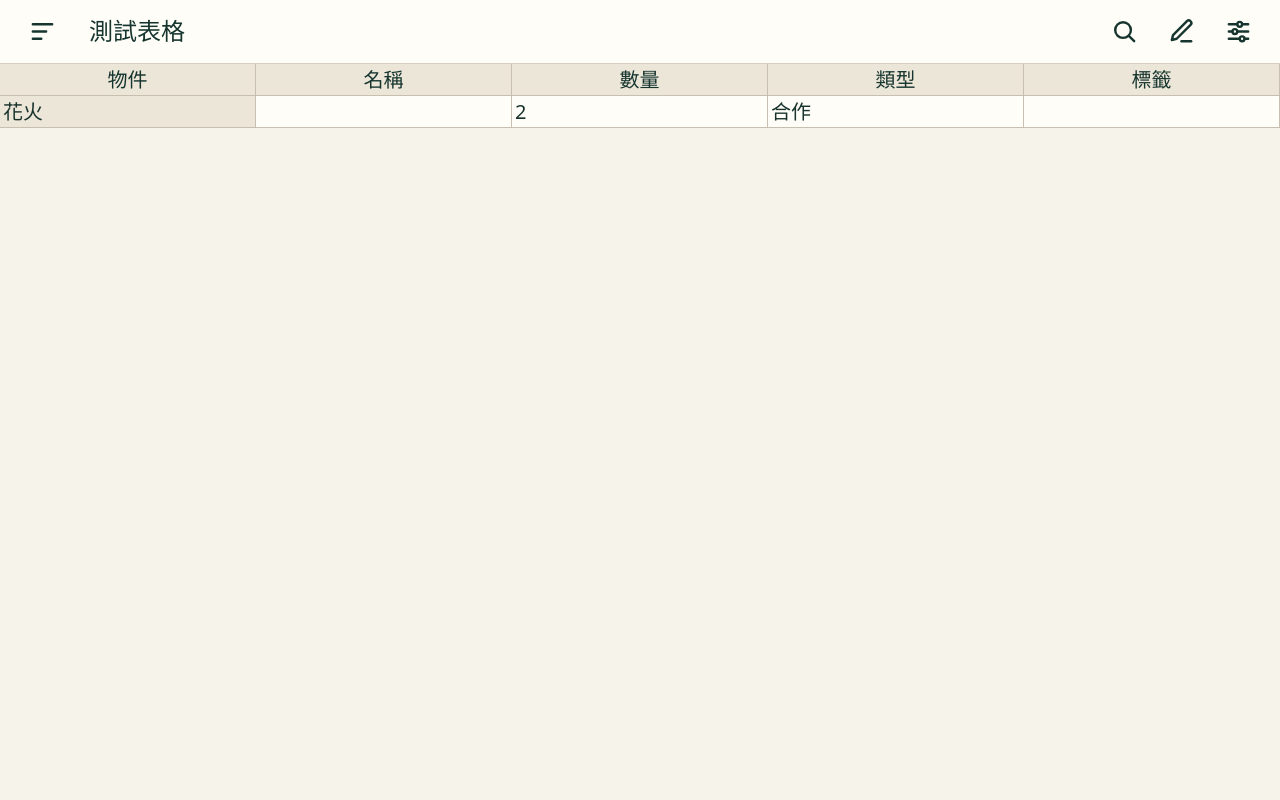
it: WorkspacePage.fields › suggests current distinct values when changing a property to a fixed list
Click the cell named "花火，名稱：空白". click: (384, 112)
box: [256, 96, 512, 128]
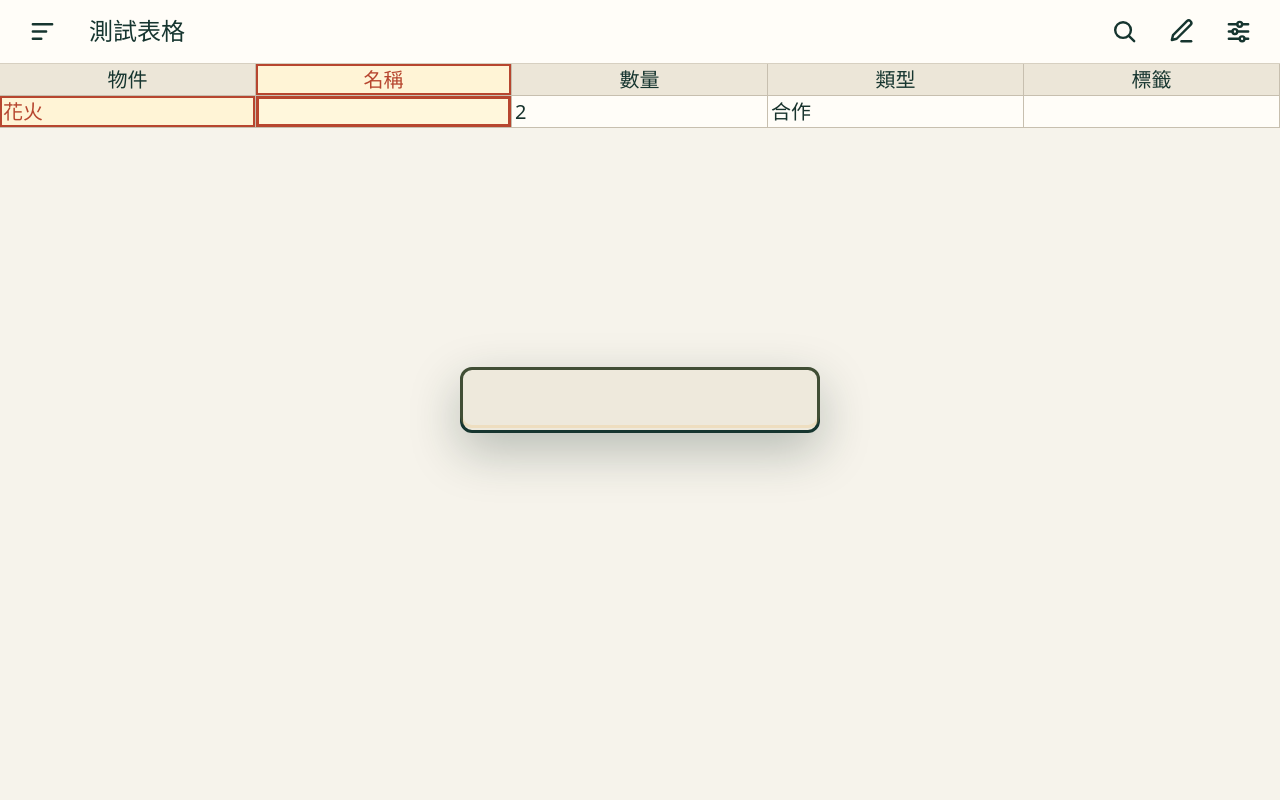
Type "合作" into the text box named "名稱輸入". click: (640, 398)
box: [463, 370, 817, 425]
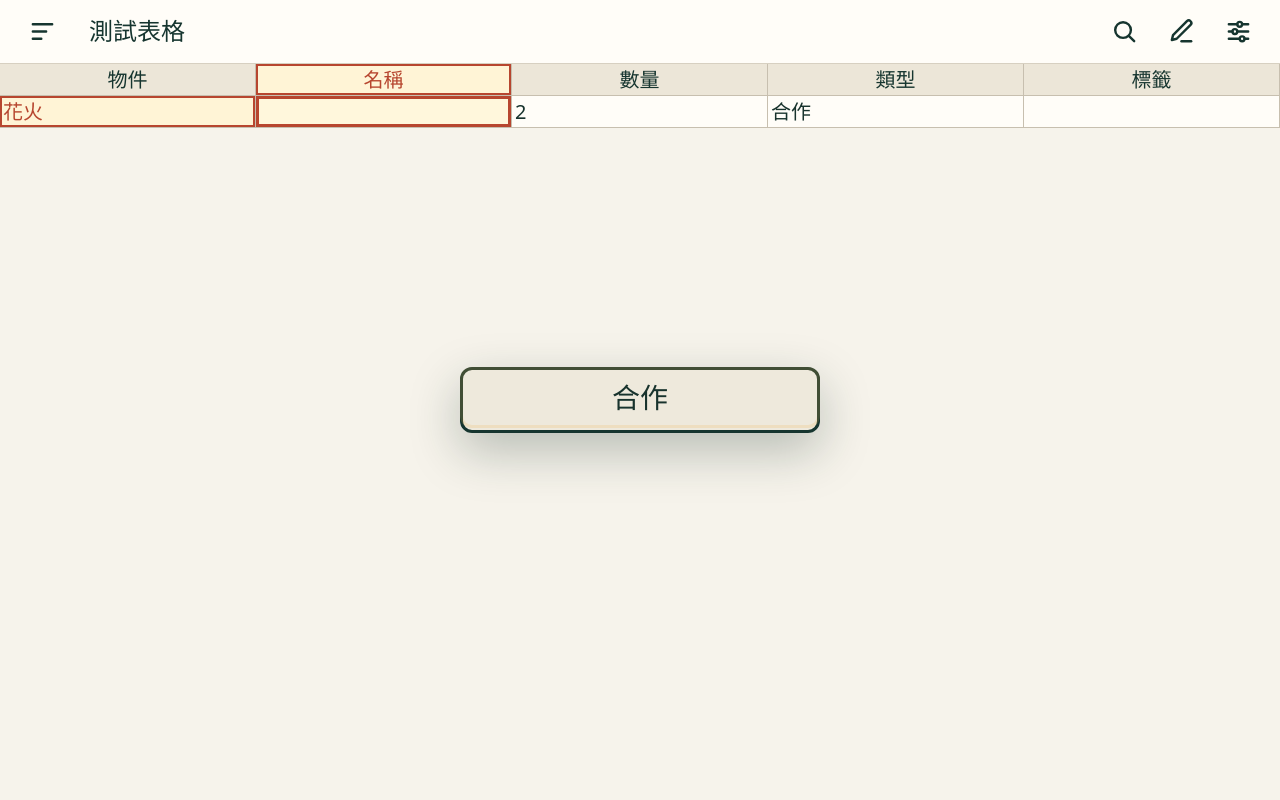
Click the element with class "workspace-value-dialog-overlay". click: (640, 400)
box: [460, 367, 820, 433]
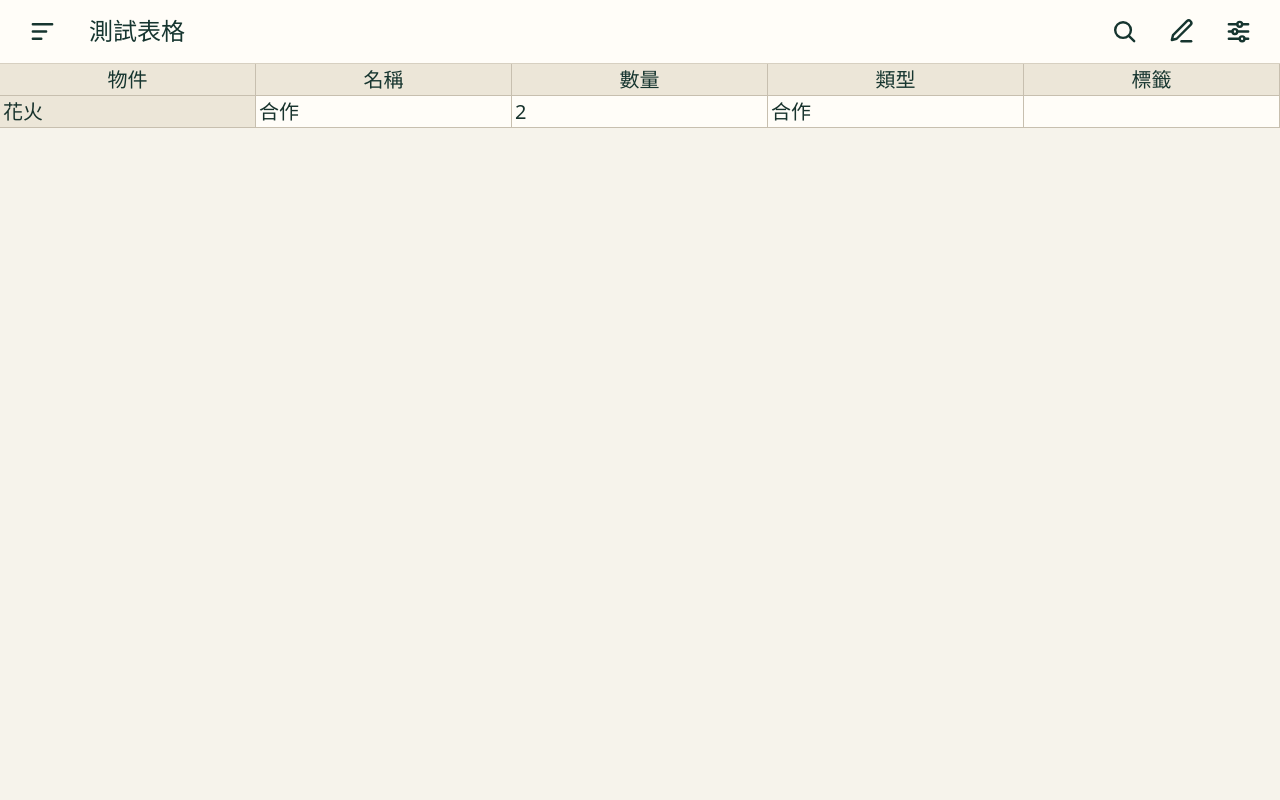
Click the column heading "名稱". click: (384, 80)
box: [256, 64, 512, 96]
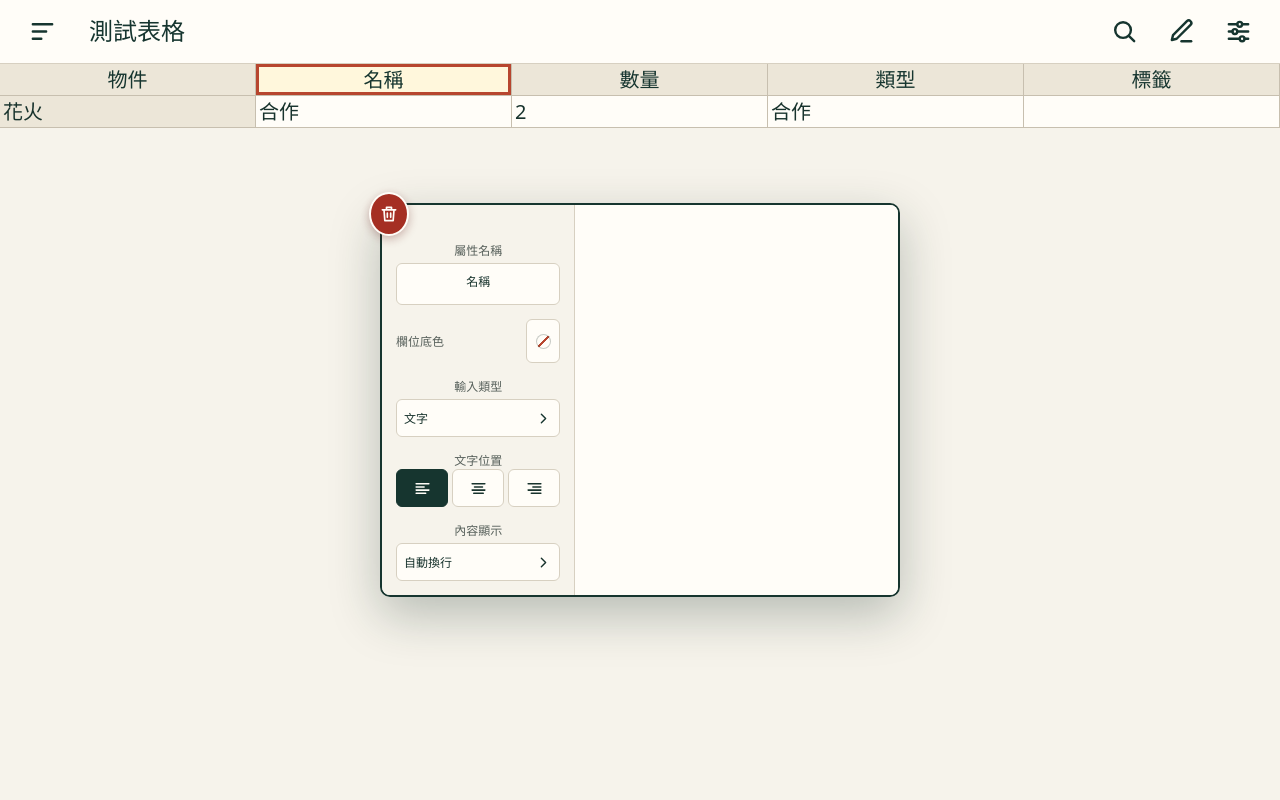
Click the dropdown named "輸入類型". click: (478, 418)
box: [396, 399, 560, 437]
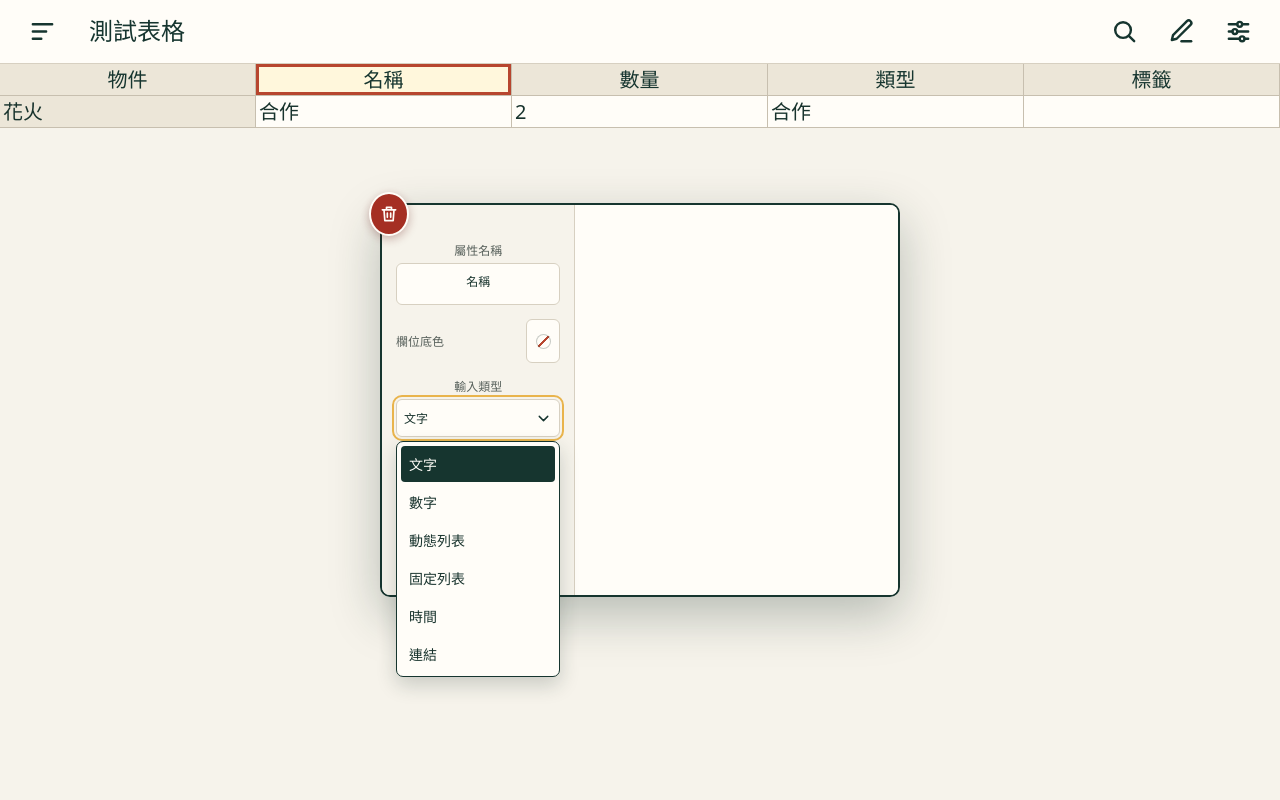
Click the option "固定列表". click: (478, 578)
box: [401, 560, 556, 596]
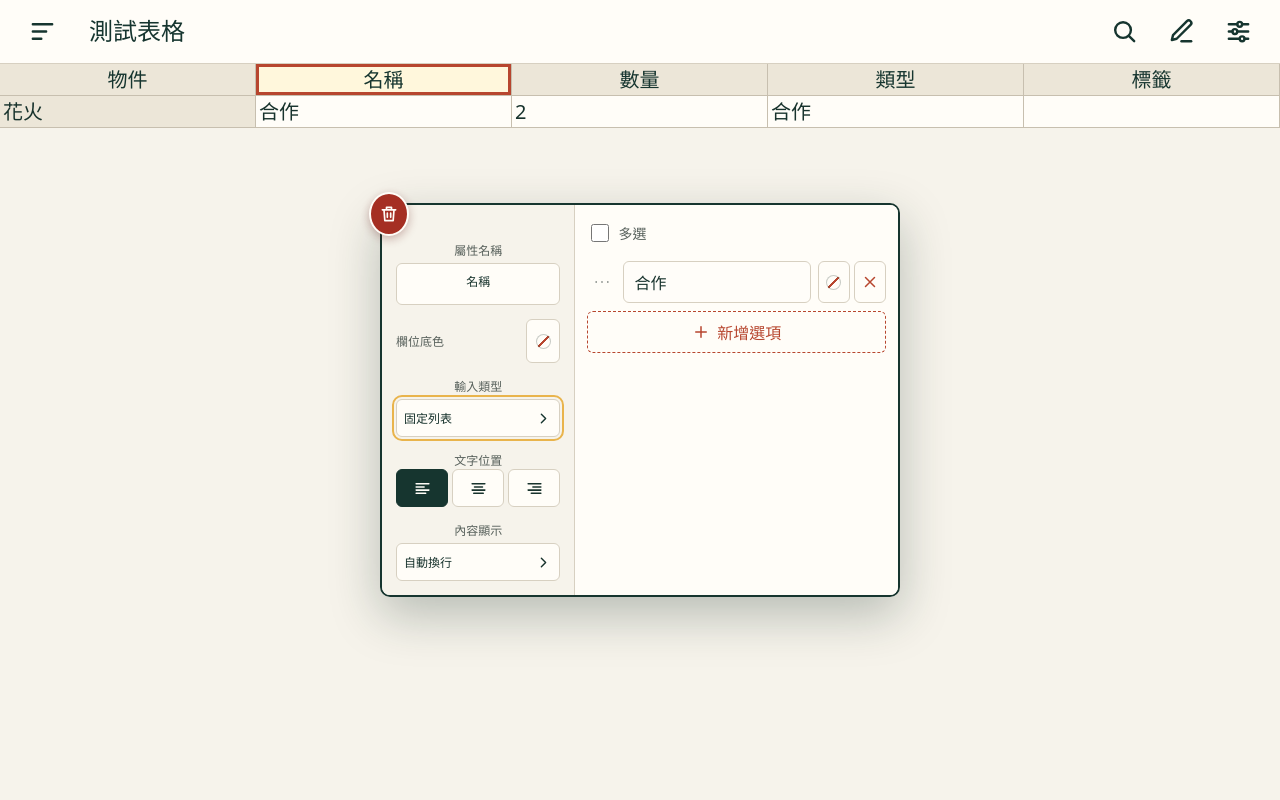
Check: the text box named "固定選項 1" holds "合作", box [624, 261, 811, 303]
